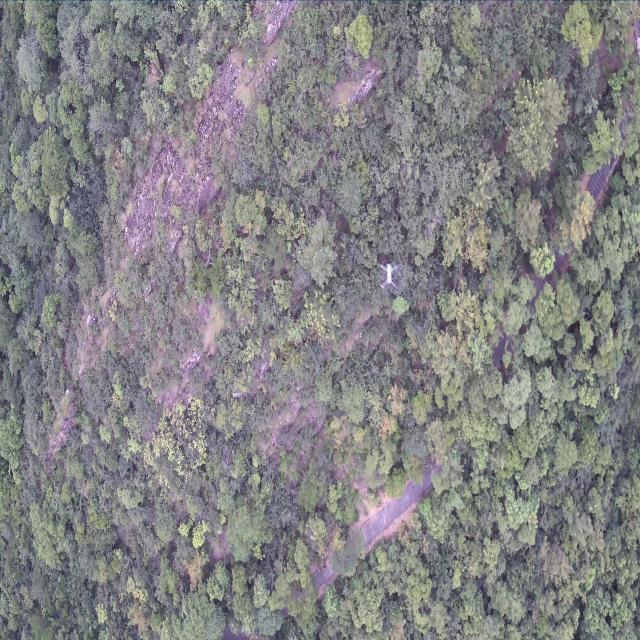UAV: (380, 263, 400, 290)
